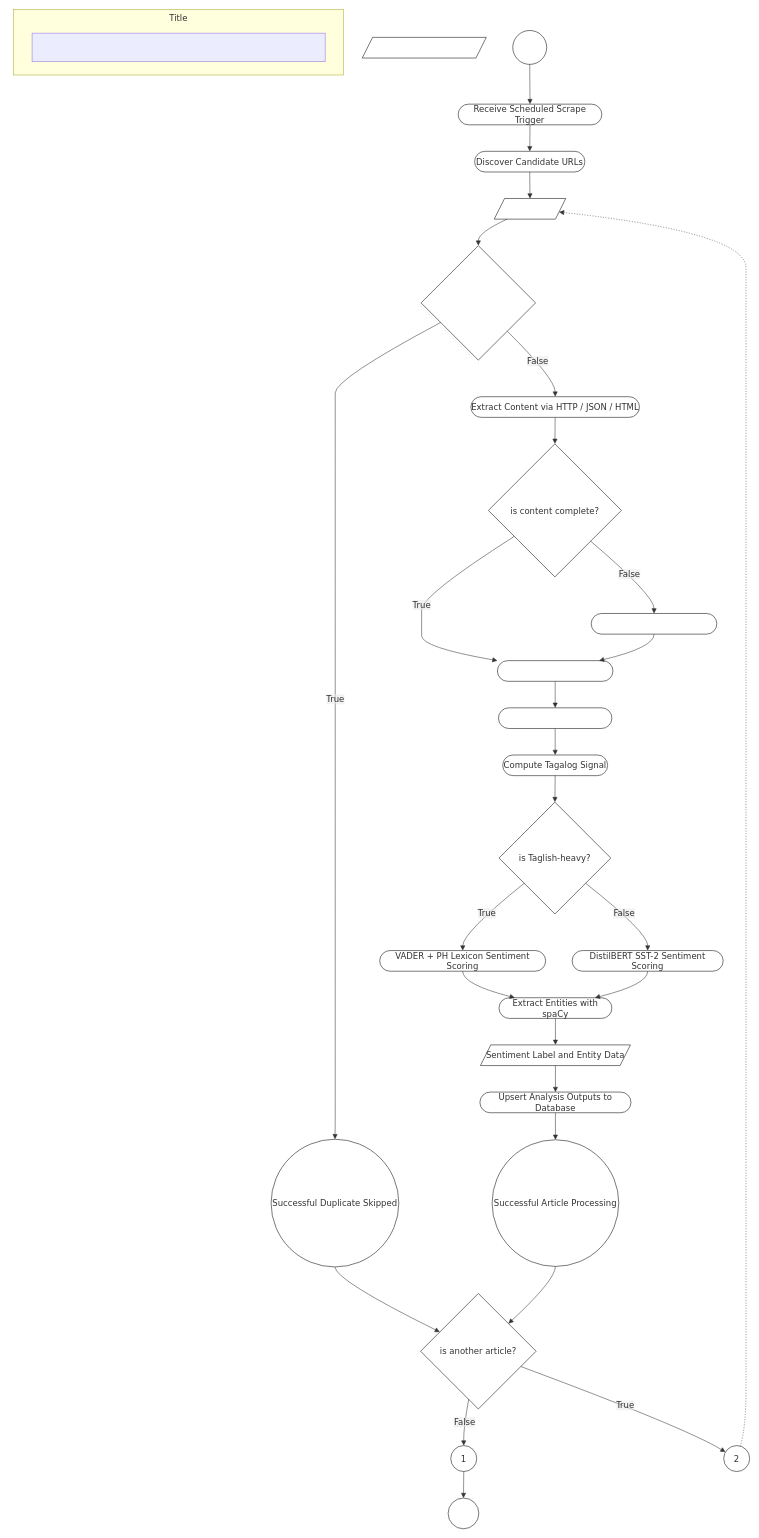
Some shapes in this 759 by 1538 pixel diagram are drawn without their labels. Here are the shapes that lost their labels. From the top down, the box of each, then its label:
(32, 33, 325, 62): Program Flowchart — Article Ingestion and Hybrid Sentiment Pipeline
(362, 37, 486, 58): Article Text and Metadata
(512, 30, 547, 64): Start
(494, 198, 566, 219): Article URL
(421, 245, 536, 360): is duplicate URL?
(591, 613, 717, 634): Playwright Browser Extraction
(497, 660, 613, 681): Normalize and Store Article
(498, 707, 612, 728): Enqueue ML Analysis Task
(448, 1498, 479, 1529): End
